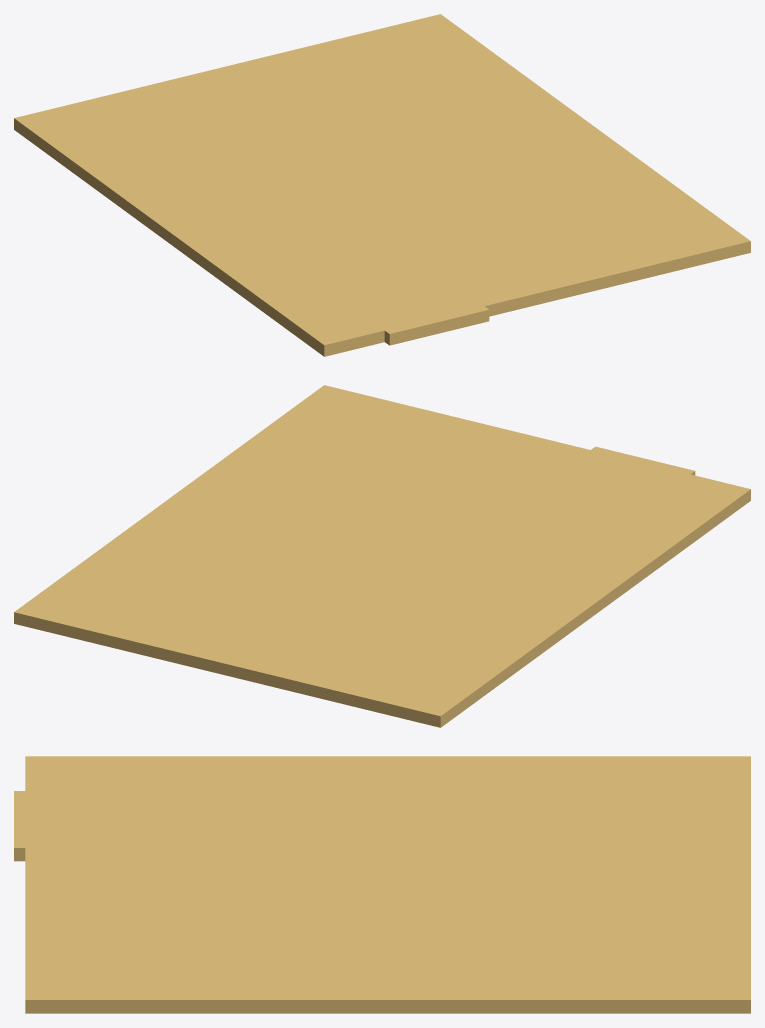
Rendered from Joglo_part_193.fbx.
3 views of the same model, one above another, from view 1: azimuth 30°, elevation 25°; view 2: azimuth 150°, elevation 25°; view 3: azimuth 270°, elevation 25° (orthographic). The views are drawn at different scales.
Parts seen in each view (by area): view 1: Mesh26_Paint___Golden_Ochre_0.001; view 2: Mesh26_Paint___Golden_Ochre_0.001; view 3: Mesh26_Paint___Golden_Ochre_0.001.
Boxes of the visible parts, x1,y1,x2,y2 form: Mesh26_Paint___Golden_Ochre_0.001: (14, 14, 750, 356); Mesh26_Paint___Golden_Ochre_0.001: (14, 385, 750, 727); Mesh26_Paint___Golden_Ochre_0.001: (14, 756, 750, 1013).
Bounding box in the file's own units: 152 × 3.94 × 194.
